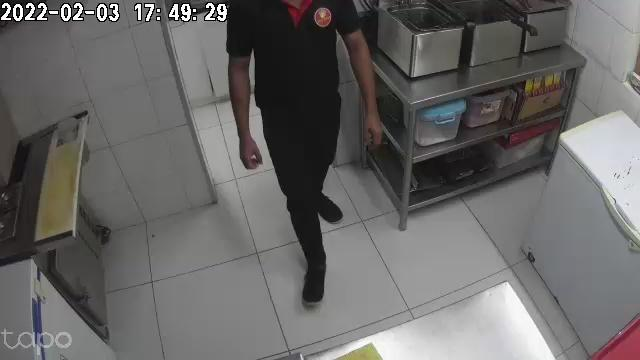no_gloves: (238, 125, 263, 171), (363, 103, 384, 147)
